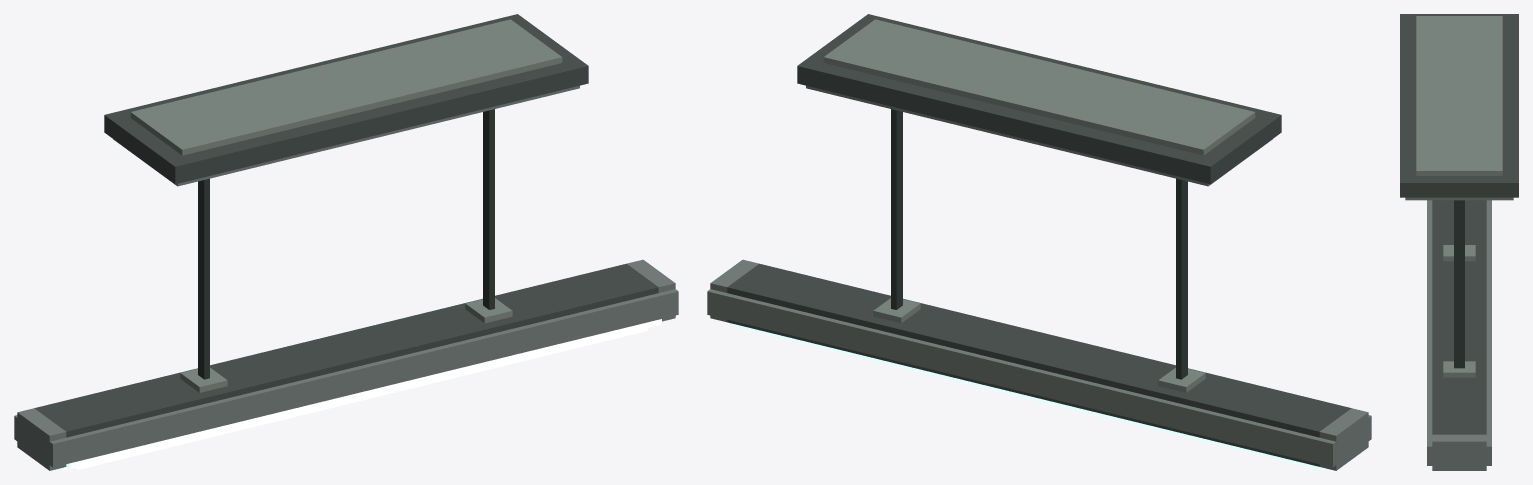
The model's file is barre_led_plafond.glb.
The picture shows the model from 3 angles, left to right: view 1: azimuth 30°, elevation 25°; view 2: azimuth 150°, elevation 25°; view 3: azimuth 270°, elevation 25°; orthographic projection. The views are drawn at different scales.
Parts seen in each view (by area): view 1: Boitier lineaire noir mat, Platine plafond et attaches, Bords metal graphite, Deux cables de suspension noirs, Diffuseur LED vert continu #65FF8F, Coeur lumineux vert pale continu; view 2: Boitier lineaire noir mat, Platine plafond et attaches, Bords metal graphite, Deux cables de suspension noirs, Diffuseur LED vert continu #65FF8F; view 3: Boitier lineaire noir mat, Platine plafond et attaches, Bords metal graphite, Deux cables de suspension noirs.
Part boxes in pixels (x1=…): Boitier lineaire noir mat: x1=34, y1=14, x2=658, y2=437; Platine plafond et attaches: x1=130, y1=19, x2=562, y2=392; Bords metal graphite: x1=14, y1=85, x2=678, y2=470; Deux cables de suspension noirs: x1=198, y1=109, x2=494, y2=379; Diffuseur LED vert continu #65FF8F: x1=61, y1=319, x2=661, y2=470; Coeur lumineux vert pale continu: x1=75, y1=328, x2=647, y2=469; Boitier lineaire noir mat: x1=727, y1=14, x2=1351, y2=466; Platine plafond et attaches: x1=823, y1=19, x2=1255, y2=392; Bords metal graphite: x1=707, y1=85, x2=1371, y2=470; Deux cables de suspension noirs: x1=891, y1=109, x2=1187, y2=379; Diffuseur LED vert continu #65FF8F: x1=730, y1=323, x2=1324, y2=470; Boitier lineaire noir mat: x1=1400, y1=14, x2=1518, y2=434; Platine plafond et attaches: x1=1416, y1=16, x2=1502, y2=377; Bords metal graphite: x1=1405, y1=197, x2=1513, y2=470; Deux cables de suspension noirs: x1=1454, y1=200, x2=1464, y2=368.
Size of the model in its own units: 3.92 by 1.85 by 0.77.
